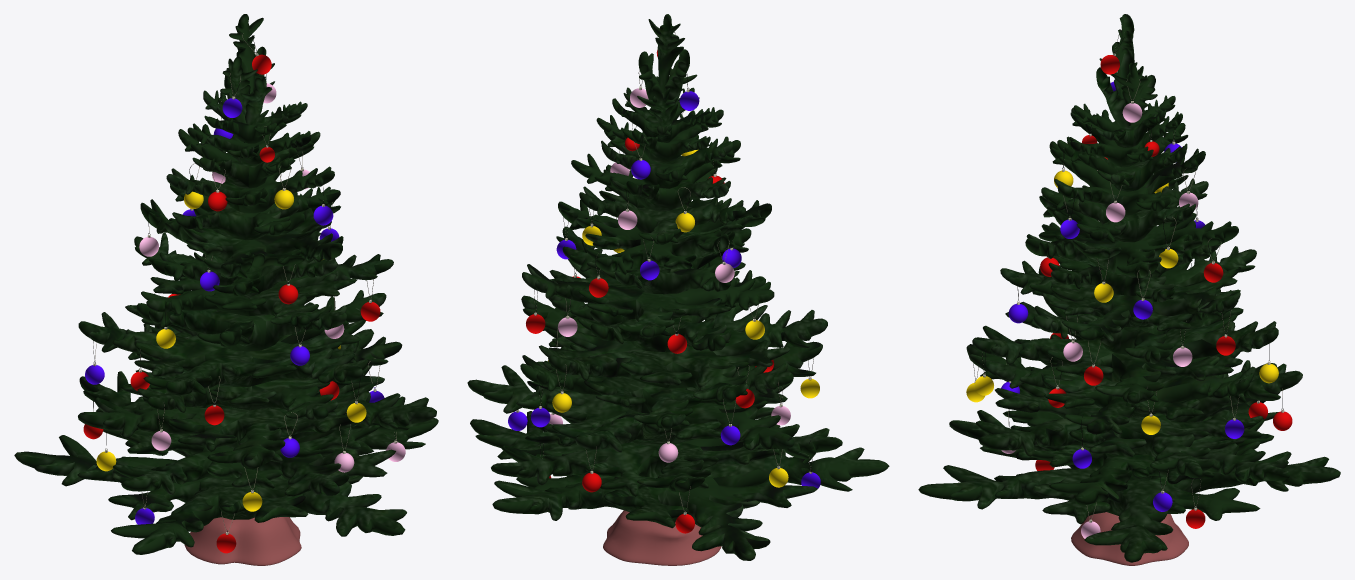
The model's file is christmasTree.glb.
3 renders of one model, left to right at view 1: azimuth 30°, elevation 25°; view 2: azimuth 150°, elevation 25°; view 3: azimuth 270°, elevation 25°, orthographic.
Parts seen in each view (by area): view 1: 12150_Christmas_Tree_V2_L2; view 2: 12150_Christmas_Tree_V2_L2; view 3: 12150_Christmas_Tree_V2_L2.
Boxes of the visible parts, x1,y1,x2,y2 form: 12150_Christmas_Tree_V2_L2: [14, 14, 438, 565]; 12150_Christmas_Tree_V2_L2: [467, 14, 889, 565]; 12150_Christmas_Tree_V2_L2: [918, 14, 1340, 565].
Size of the model in its own units: 1.25 by 1.74 by 1.27.
Materials: 1 (1 with a texture image).
